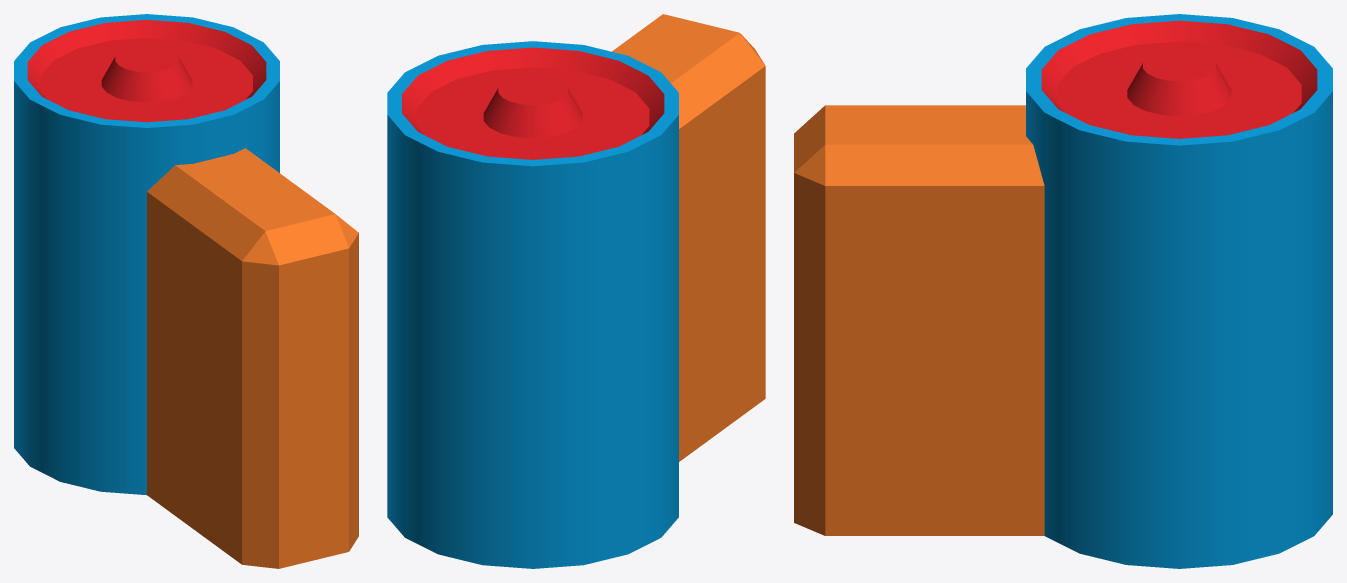
The model's file is IonCell.FBX.
The picture shows the model from 3 angles, left to right: view 1: azimuth 30°, elevation 25°; view 2: azimuth 150°, elevation 25°; view 3: azimuth 270°, elevation 25°; orthographic projection. The views are drawn at different scales.
Parts seen in each view (by area): view 1: Cylinder001, Box001; view 2: Cylinder001, Box001; view 3: Cylinder001, Box001.
Part boxes in pixels (left/top/right/bottom): Cylinder001: left=14, top=14, right=279, bottom=495; Box001: left=147, top=148, right=358, bottom=568; Cylinder001: left=387, top=41, right=678, bottom=568; Box001: left=612, top=14, right=765, bottom=461; Cylinder001: left=1026, top=14, right=1332, bottom=568; Box001: left=794, top=105, right=1044, bottom=535.
Size of the model in its own units: 20 by 31 by 34.59.
3 materials, 3 textured.
